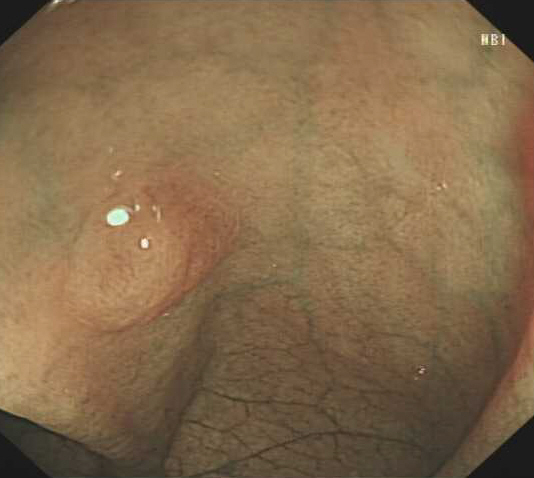others: (61, 188, 195, 336)
